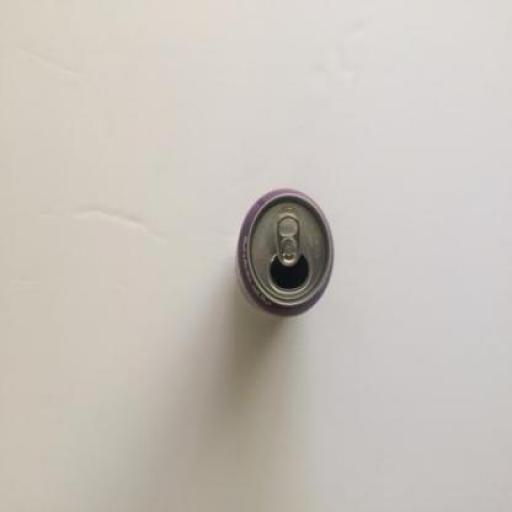metal: (236, 191, 335, 320)
